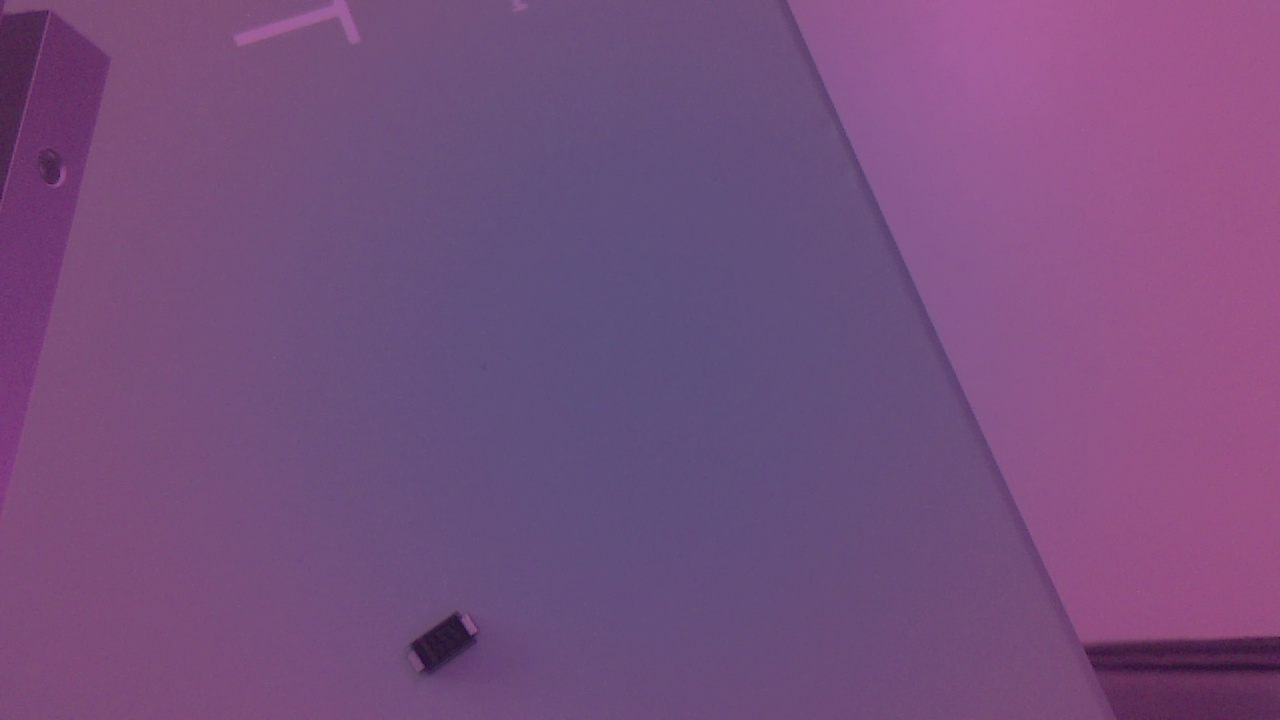Diode: (397, 610, 490, 684)
